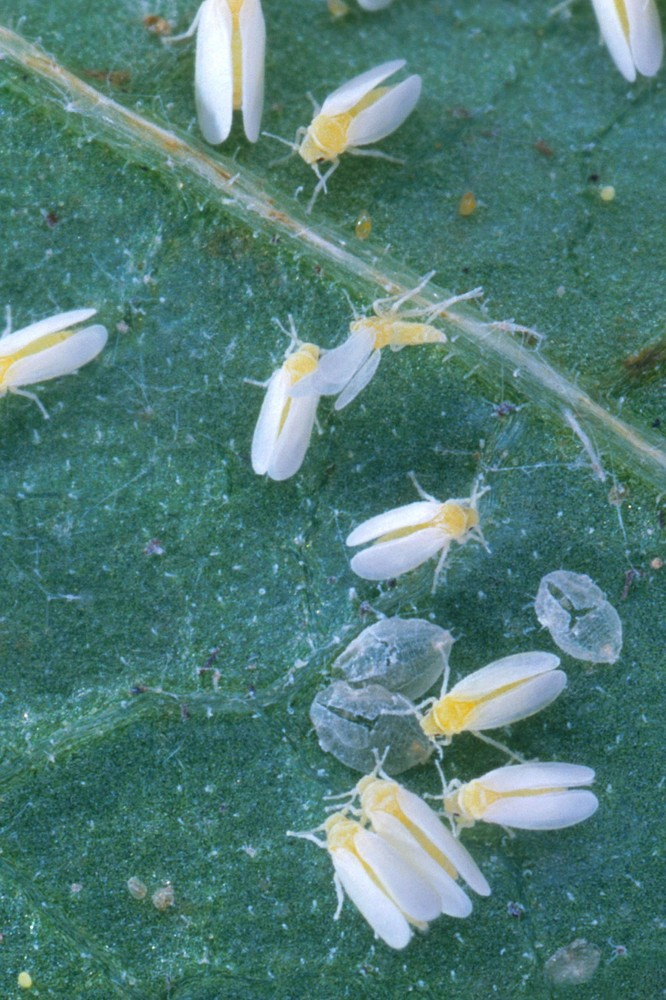Mosca Blanca: (284, 42, 448, 210), (286, 809, 453, 971), (346, 767, 512, 929), (163, 2, 289, 166), (324, 285, 467, 421), (3, 281, 117, 442), (343, 473, 500, 588), (424, 638, 580, 751), (439, 761, 614, 849), (247, 314, 330, 490)
